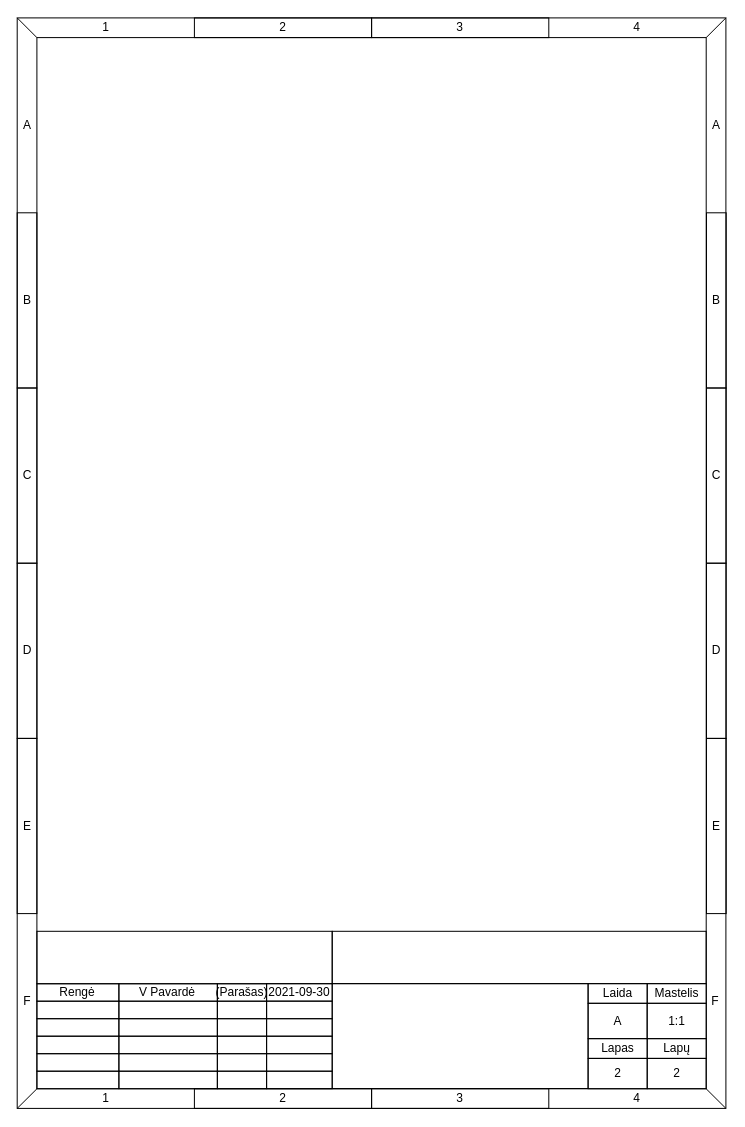
Some shapes in this 745 by 1127 pixel diagram are drawn without their labels. The shapes that lost their labels are listed below. From the top down, each one's box as (x1, y1, x2, y2) in pixels, then its label:
(36, 930, 332, 984): https://github.com/liudasdd
(331, 930, 706, 984): Dokumento numeris
(331, 983, 588, 1088): Dokumento pavadinimas
